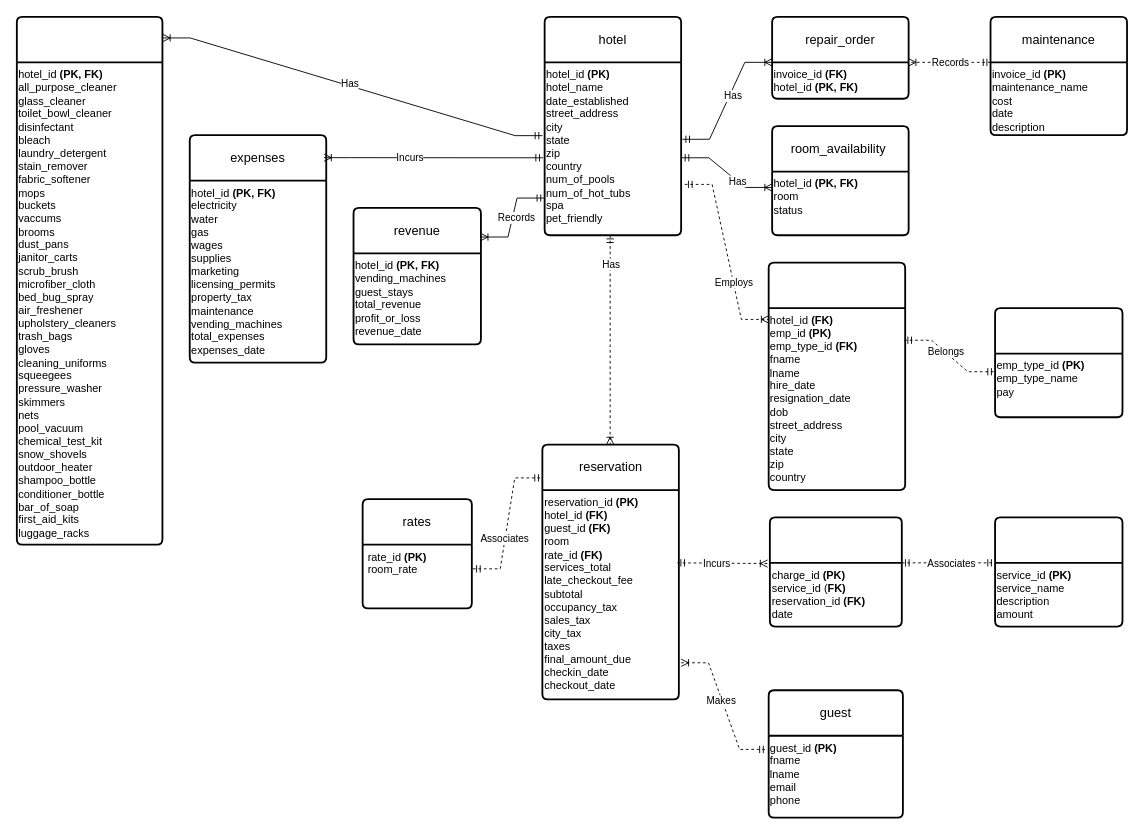
Image size: 1143x834. Some labels were removed from this diagram. Each missing label, with the box of its shape:
employee: (767, 261, 906, 490)
service_charges: (768, 516, 902, 627)
services: (994, 516, 1123, 627)
spare_inventory: (15, 15, 163, 545)
types_of_employees: (994, 307, 1123, 418)
